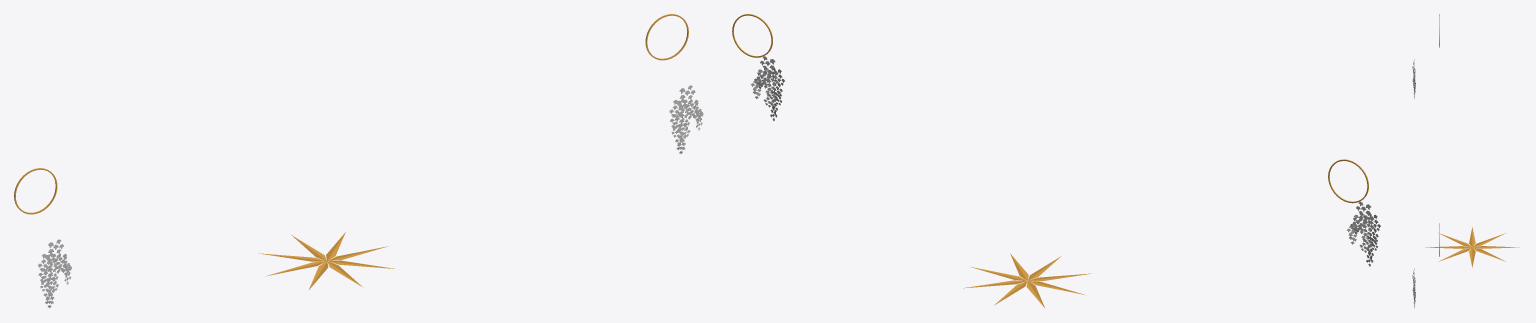
File: district-arrival.obj
3 renders of one model, left to right at view 1: azimuth 30°, elevation 25°; view 2: azimuth 150°, elevation 25°; view 3: azimuth 270°, elevation 25°, orthographic. The views are drawn at different scales.
Size of the model in its own units: 32.03 by 8.5 by 6.65.
Materials: 3 (1 with a texture image).
